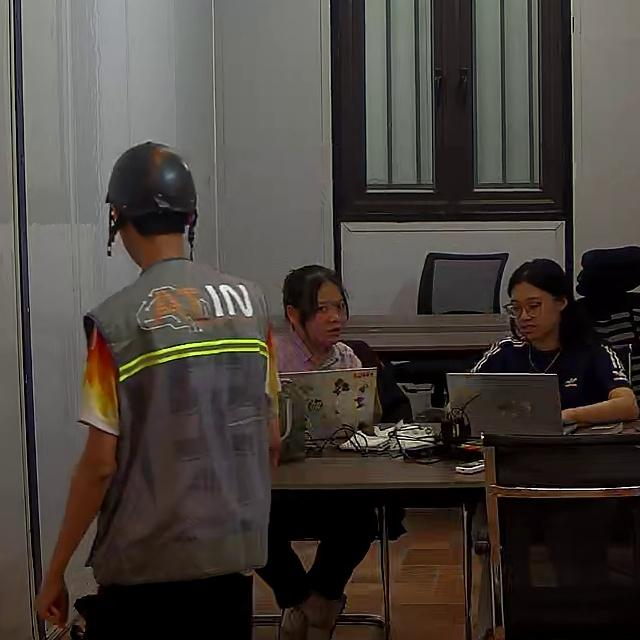helmet: (105, 141, 200, 217)
no_helmet: (506, 258, 596, 317), (281, 264, 349, 327)
none: (469, 334, 630, 411), (271, 325, 360, 377)
vest: (86, 271, 271, 585)
